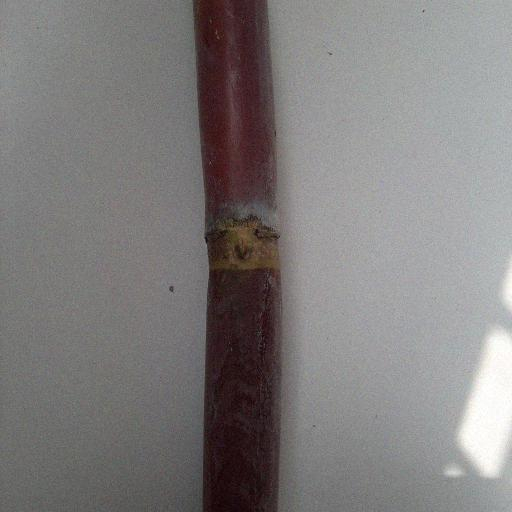Bud: (231, 238, 256, 262)
